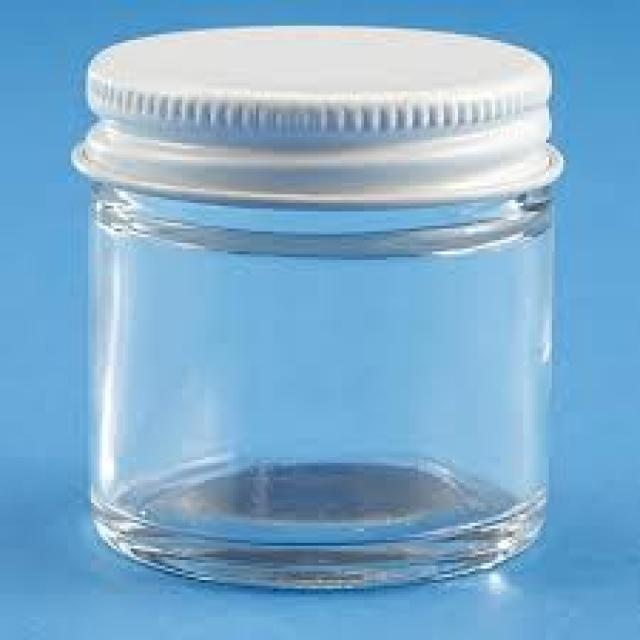glass: (85, 183, 549, 586)
metal: (66, 23, 561, 208)
